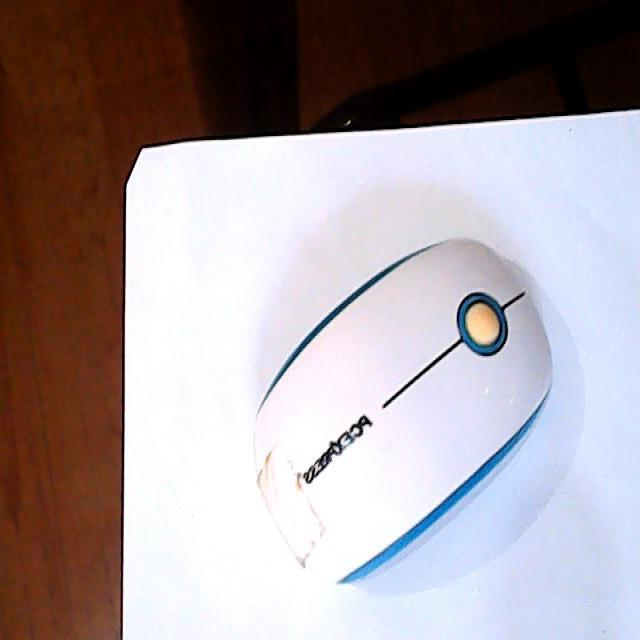mouse: (214, 247, 566, 595)
